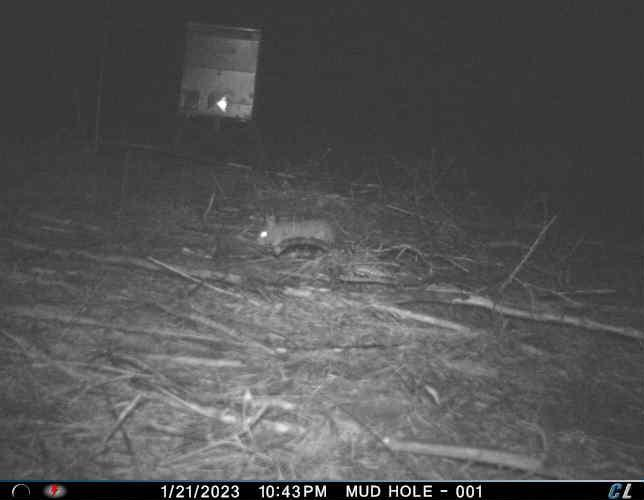Rabbit: (251, 211, 338, 259)
